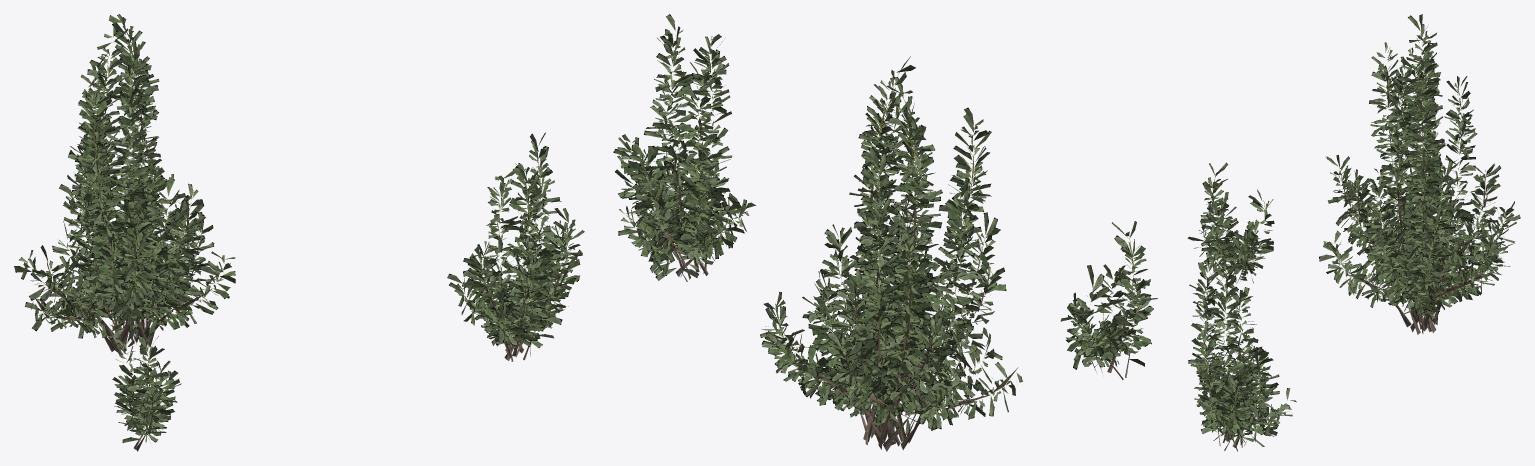
Rendered from arbusto.glb.
The picture shows the model from 3 angles, left to right: view 1: azimuth 30°, elevation 25°; view 2: azimuth 150°, elevation 25°; view 3: azimuth 270°, elevation 25°; orthographic projection. The views are drawn at different scales.
Visible parts, largest first — view 1: othonna_cerarioides_b, othonna_cerarioides_d, othonna_cerarioides_f; view 2: othonna_cerarioides_b, othonna_cerarioides_d, othonna_cerarioides_f; view 3: othonna_cerarioides_b, othonna_cerarioides_d, othonna_cerarioides_f.
Boxes of the visible parts, box(x1,y1,x2,y2) form: othonna_cerarioides_b: box(14, 14, 235, 355); othonna_cerarioides_d: box(447, 132, 584, 361); othonna_cerarioides_f: box(112, 318, 181, 451); othonna_cerarioides_b: box(760, 56, 1022, 451); othonna_cerarioides_d: box(613, 14, 755, 281); othonna_cerarioides_f: box(1060, 221, 1157, 380); othonna_cerarioides_b: box(1319, 14, 1520, 334); othonna_cerarioides_d: box(1188, 258, 1296, 451); othonna_cerarioides_f: box(1187, 162, 1274, 283).
Size of the model in its own units: 2.55 by 1.77 by 1.74.
2 materials, 2 textured.
